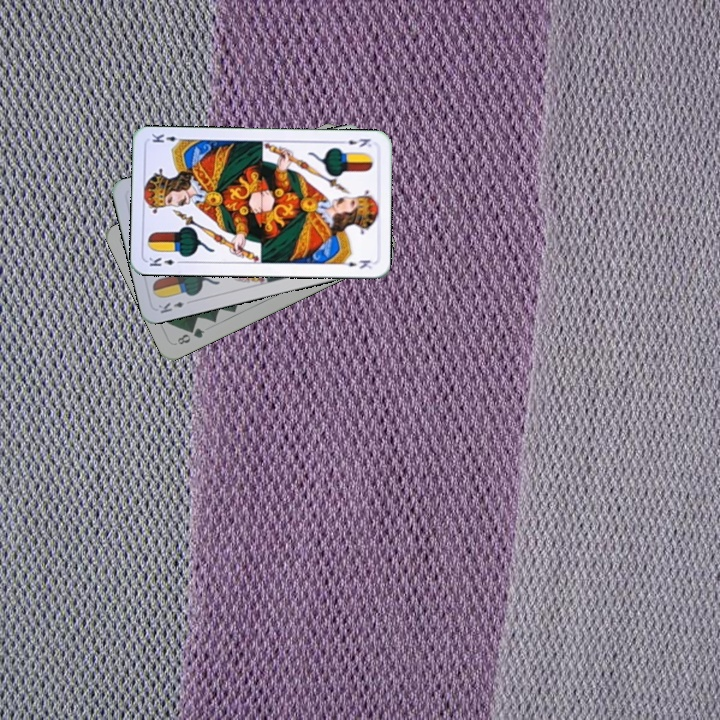EK: (154, 296, 195, 316), (335, 134, 374, 150), (145, 254, 185, 269)
G8: (173, 324, 207, 347)
